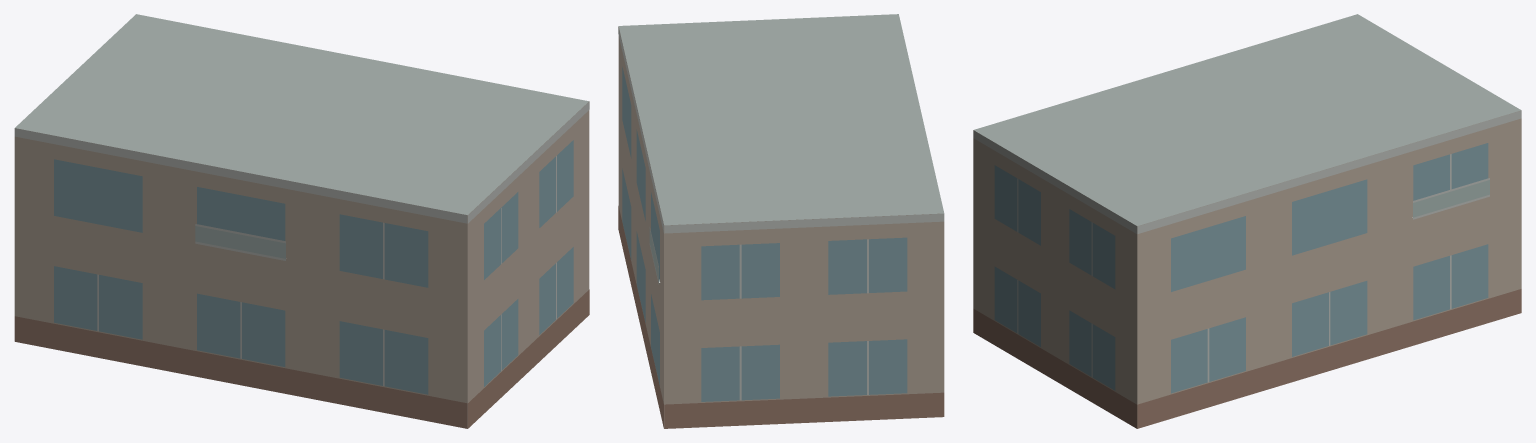
File: survey-upis-32709552.glb
3 views of the same model, side by side, from view 1: azimuth 30°, elevation 25°; view 2: azimuth 150°, elevation 25°; view 3: azimuth 270°, elevation 25° (orthographic). The views are drawn at different scales.
Parts seen in each view (by area): view 1: survey-upis-32709552.tmp; view 2: survey-upis-32709552.tmp; view 3: survey-upis-32709552.tmp.
Part boxes in pixels (x1,y1,x2,y2): survey-upis-32709552.tmp: [14, 14, 589, 428]; survey-upis-32709552.tmp: [618, 14, 944, 428]; survey-upis-32709552.tmp: [973, 14, 1521, 428].
Bounding box in the file's own units: 13.7 × 6.1 × 14.97.
